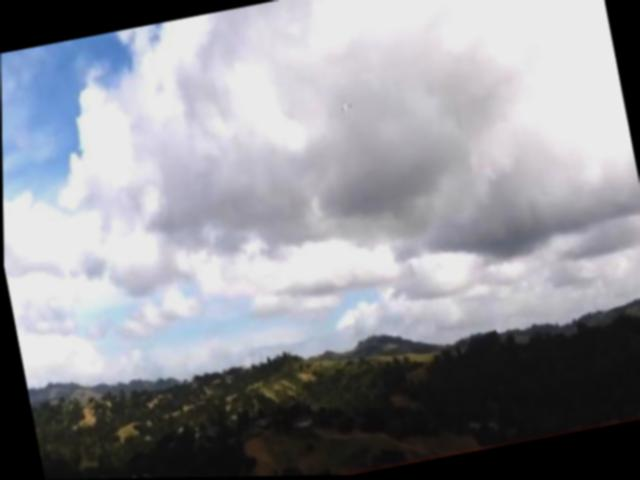iha: (336, 97, 355, 116)
